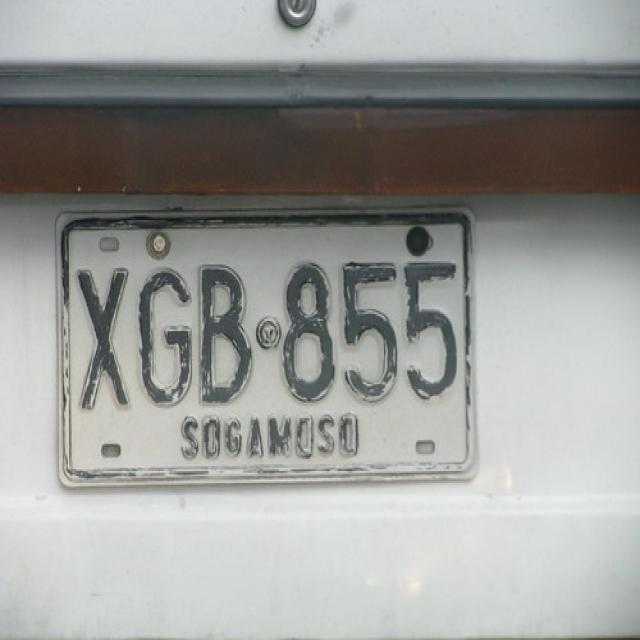placas: (63, 247, 471, 414)
